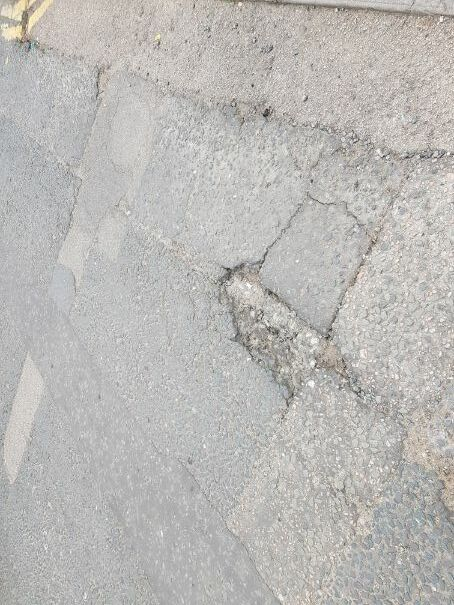pothole: (213, 256, 368, 404)
